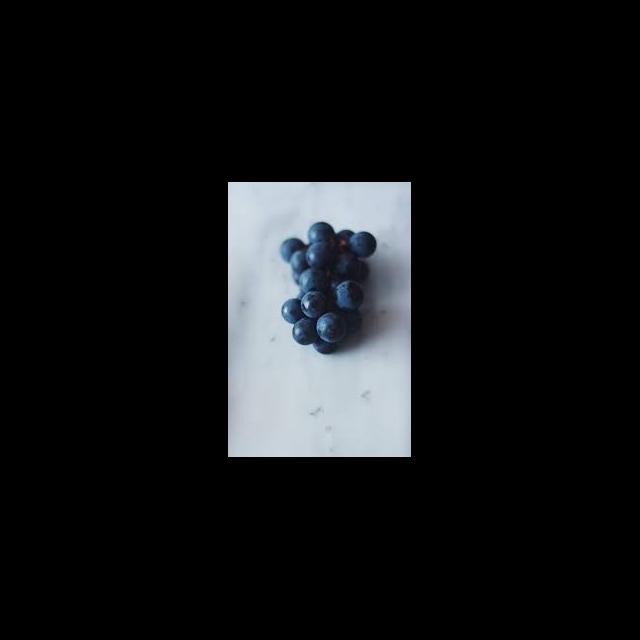grape: (279, 222, 376, 354)
